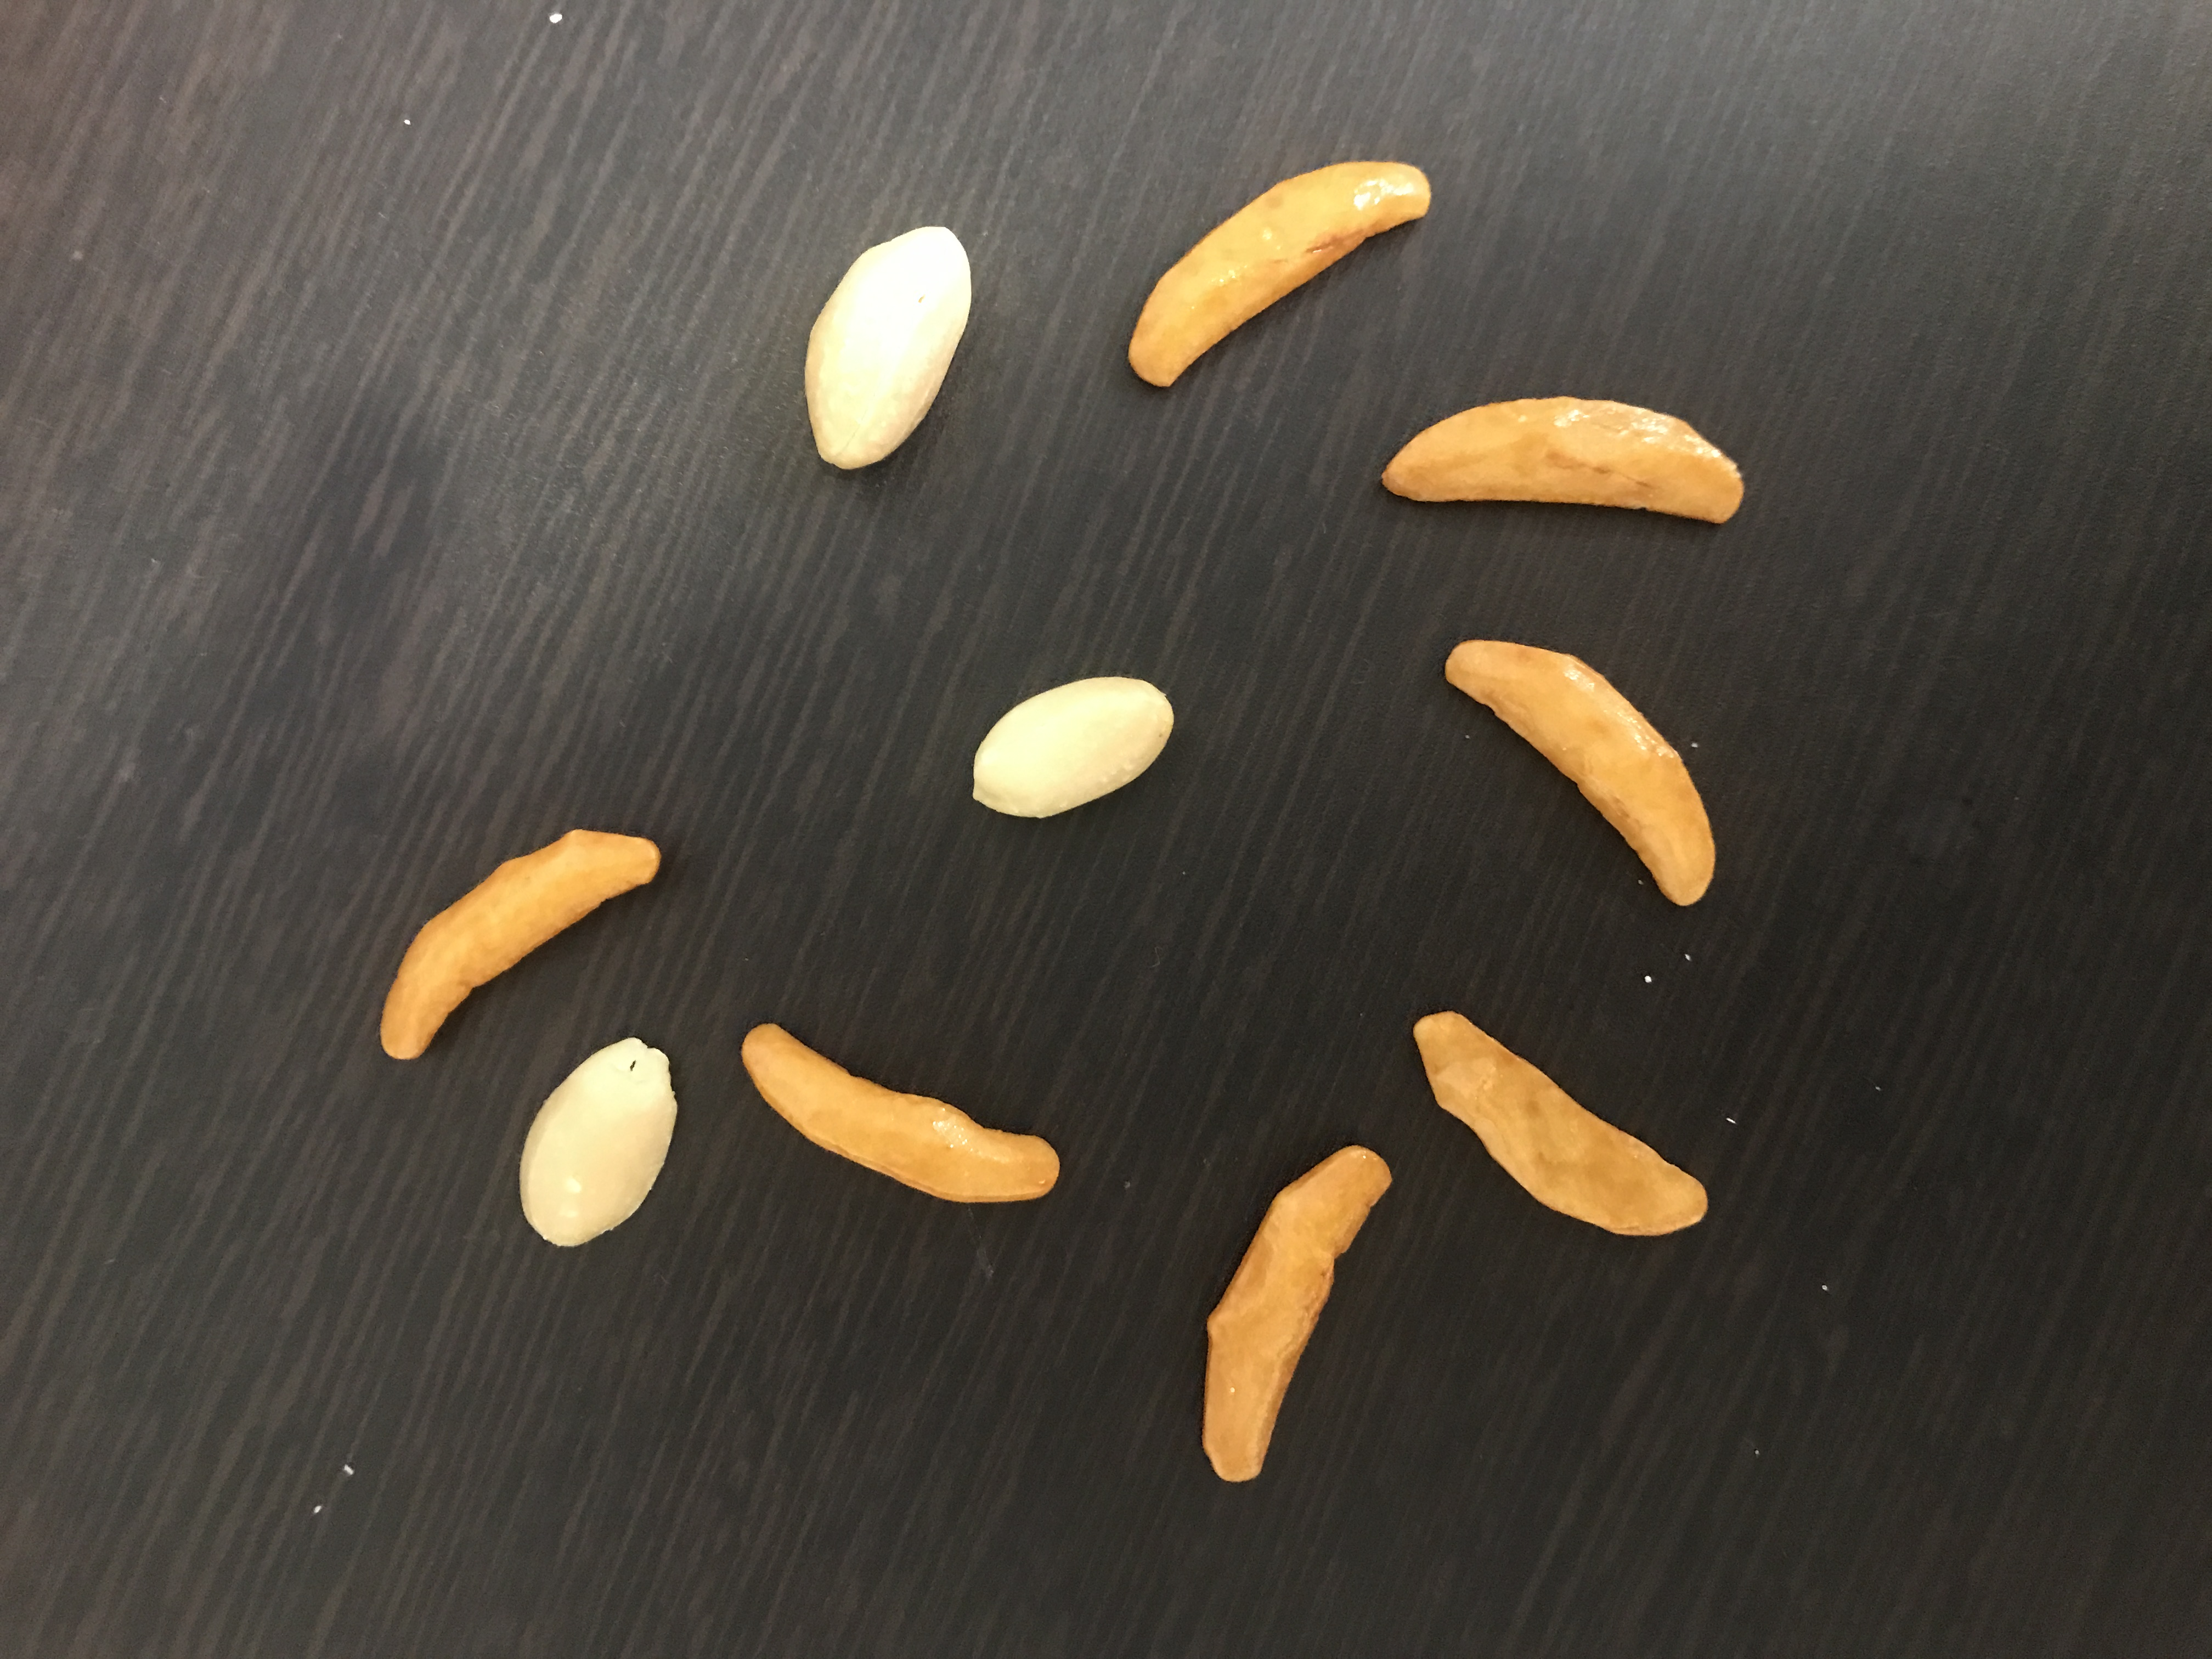peanut: (792, 218, 981, 484), (517, 1030, 681, 1251), (965, 667, 1179, 823)
